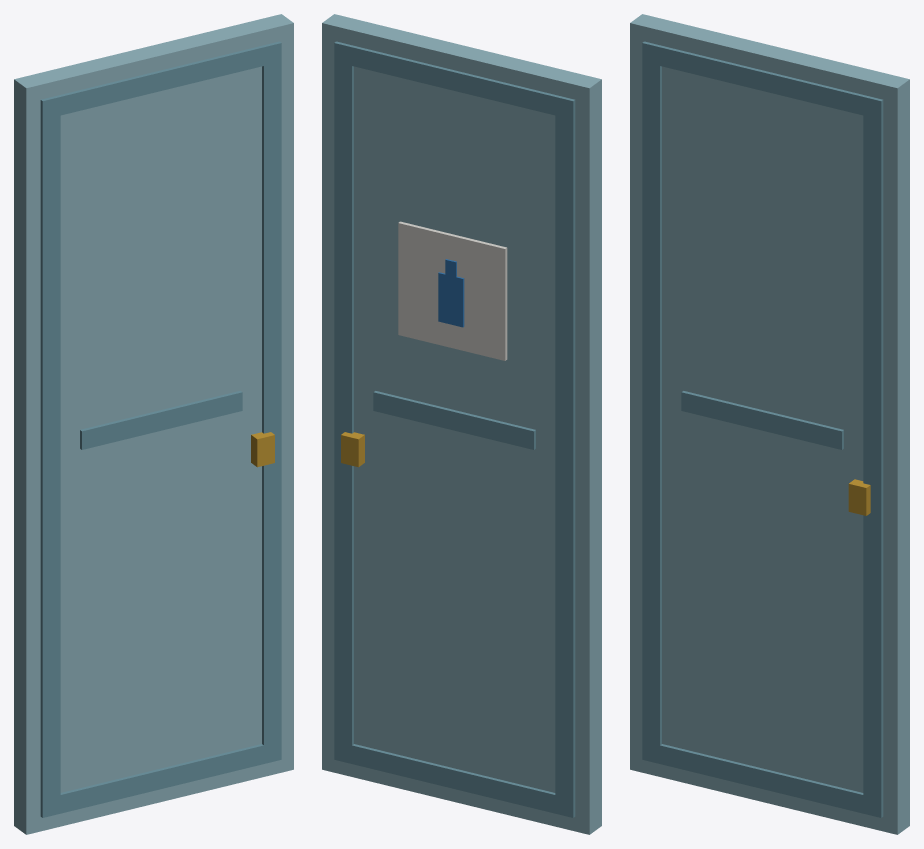
The model's file is ncb-bath-door-left.glb.
The picture shows the model from 3 angles, left to right: view 1: azimuth 30°, elevation 25°; view 2: azimuth 150°, elevation 25°; view 3: azimuth 330°, elevation 25°; orthographic projection.
Visible parts, largest first — view 1: part-leaf; view 2: part-leaf; view 3: part-leaf.
Part boxes in pixels (left/top/right/bottom): part-leaf: left=14, top=14, right=293, bottom=834; part-leaf: left=322, top=14, right=601, bottom=834; part-leaf: left=630, top=14, right=909, bottom=834.
Bounding box in the file's own units: 1.5 × 4 × 0.24.
